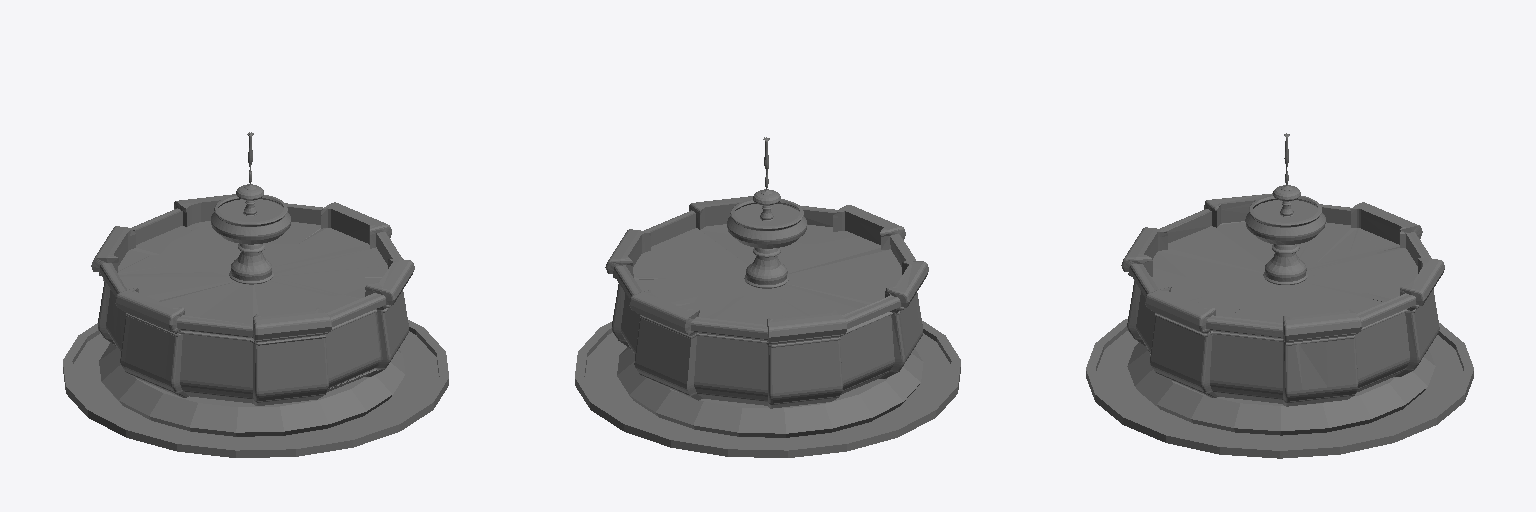
File: Fountain.obj
3 views of the same model, side by side, from view 1: azimuth 30°, elevation 25°; view 2: azimuth 150°, elevation 25°; view 3: azimuth 270°, elevation 25° (orthographic).
Visible parts, largest first — view 1: polySurface20_polySurface20; view 2: polySurface20_polySurface20; view 3: polySurface20_polySurface20.
Part boxes in pixels (left/top/right/bottom): polySurface20_polySurface20: left=63, top=132, right=448, bottom=457; polySurface20_polySurface20: left=575, top=137, right=960, bottom=457; polySurface20_polySurface20: left=1086, top=133, right=1473, bottom=458.
Size of the model in its own units: 22.3 by 15.26 by 22.3.